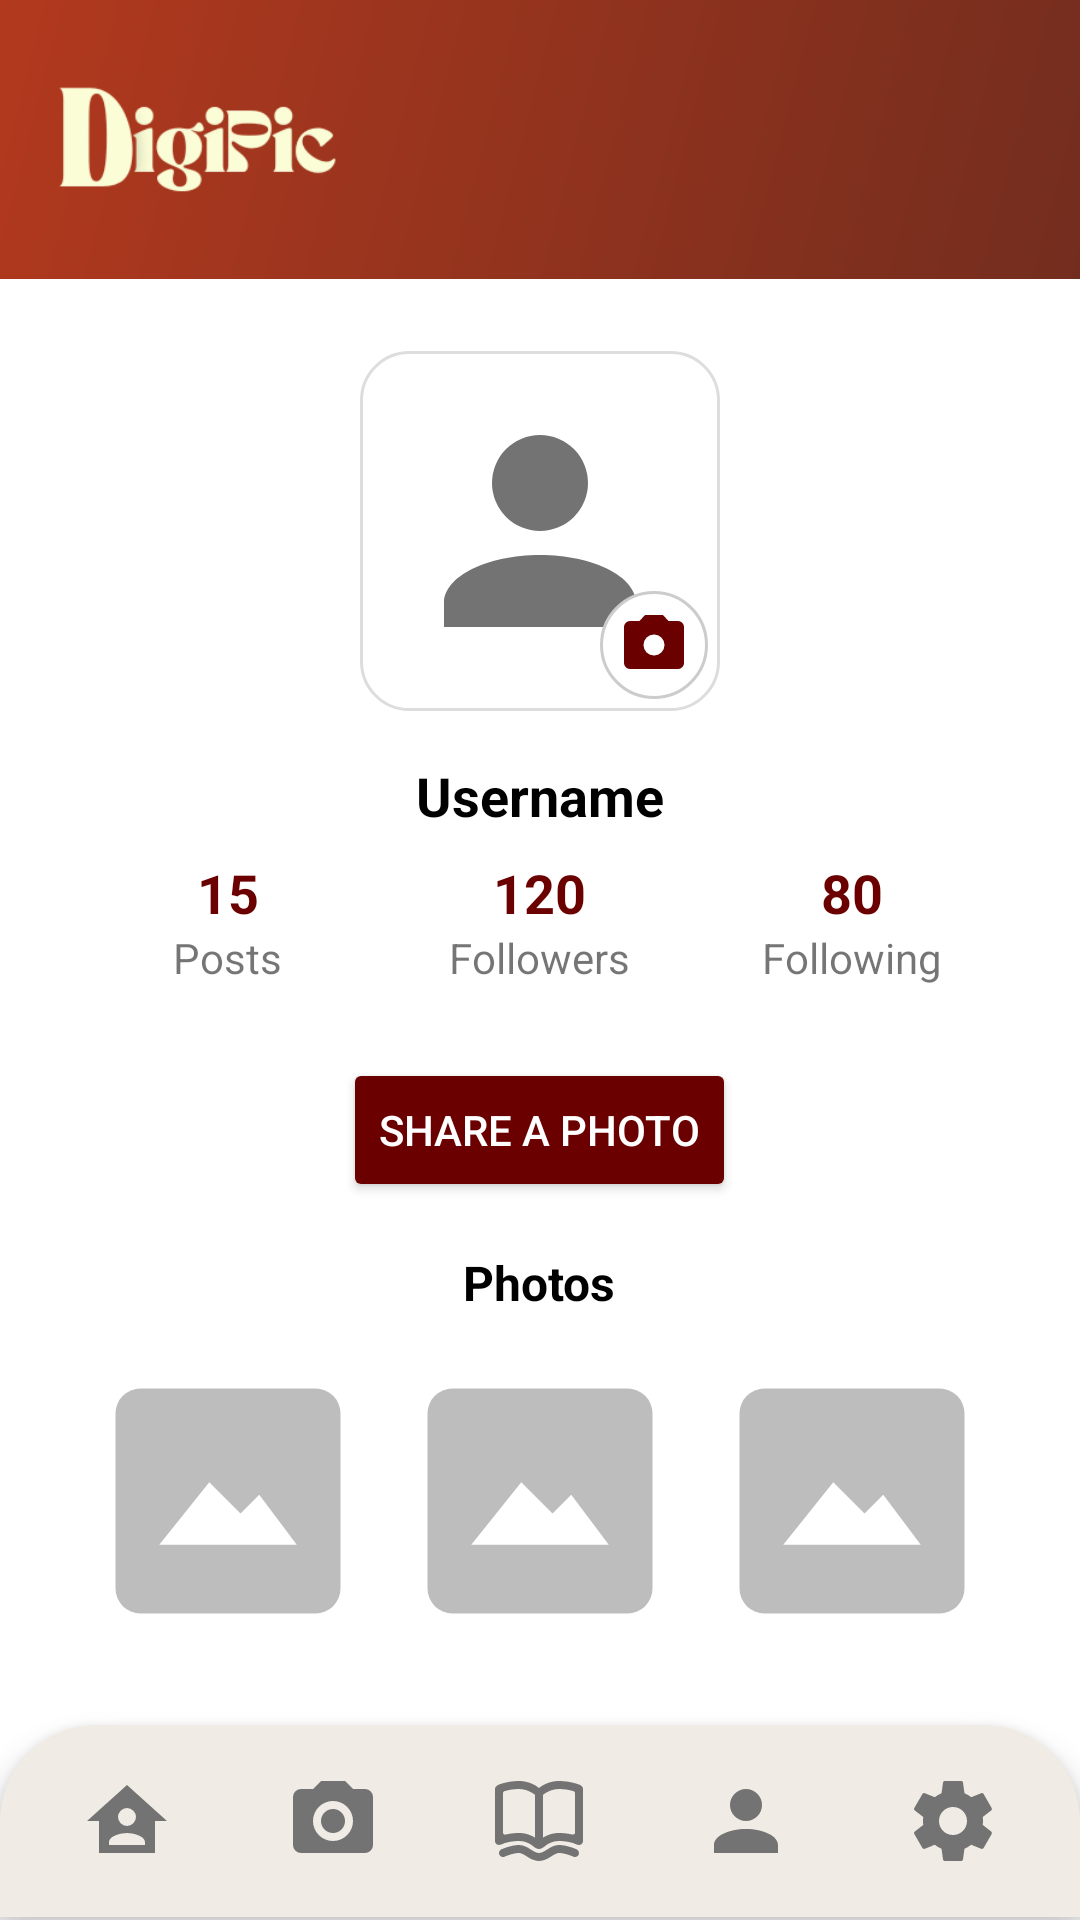

Where icons sit on this 1080px x 1920px app screen, as (x1, y1, x2, y2):
Home: (87, 1785, 167, 1853)
Profile: (714, 1789, 778, 1853)
Settings: (914, 1781, 992, 1861)
